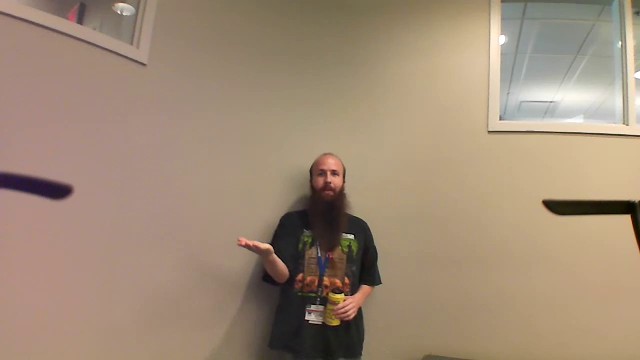land: (228, 231, 283, 259)
